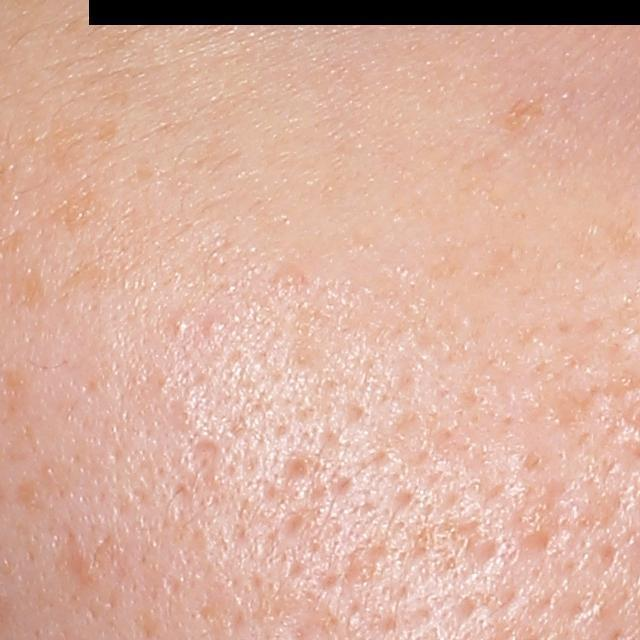atrophic_scar: (455, 517, 505, 587), (180, 431, 223, 485), (274, 454, 322, 499)
comedo: (170, 316, 192, 336)
melasma: (26, 108, 122, 173), (55, 249, 133, 301), (494, 89, 549, 141), (63, 176, 106, 234), (17, 260, 53, 317)
